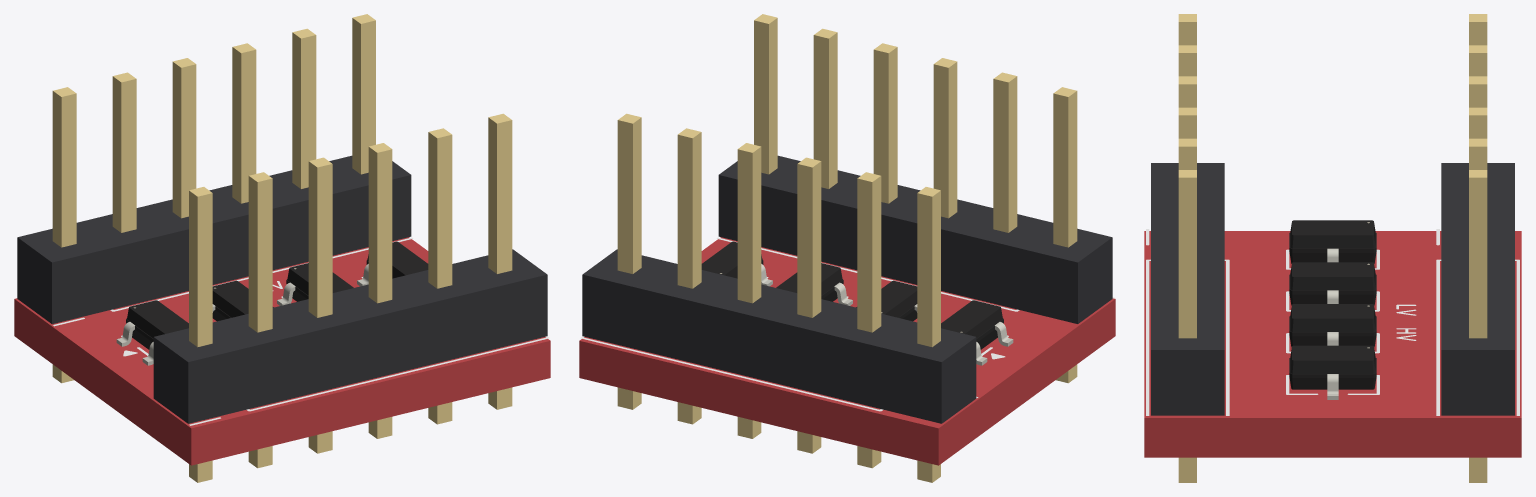
File: logic-level.glb
3 renders of one model, left to right at view 1: azimuth 30°, elevation 25°; view 2: azimuth 150°, elevation 25°; view 3: azimuth 270°, elevation 25°, orthographic. The views are drawn at different scales.
Parts seen in each view (by area): view 1: detail (×14), =>[0:1:1:5], Q1, =>[0:1:1:4], Q2, Q3, Q4; view 2: detail (×14), =>[0:1:1:5], Q1, Q2, =>[0:1:1:4], Q3, Q4; view 3: detail (×14), =>[0:1:1:5], Q4, =>[0:1:1:4], Q1, Q3, Q2.
Part boxes in pixels (<box>): detail (×14): <box>17,14,547,482</box>; =>[0:1:1:5]: <box>14,237,550,465</box>; Q1: <box>116,300,188,365</box>; =>[0:1:1:4]: <box>53,237,549,425</box>; Q2: <box>212,280,273,321</box>; Q3: <box>277,263,353,305</box>; Q4: <box>357,241,428,286</box>; detail (×14): <box>582,14,1112,482</box>; =>[0:1:1:5]: <box>579,237,1115,465</box>; Q1: <box>941,300,1013,365</box>; Q2: <box>856,280,917,321</box>; =>[0:1:1:4]: <box>580,237,1114,411</box>; Q3: <box>776,263,852,305</box>; Q4: <box>701,241,772,286</box>; detail (×14): <box>1151,14,1514,482</box>; =>[0:1:1:5]: <box>1144,231,1521,457</box>; Q4: <box>1289,345,1376,399</box>; =>[0:1:1:4]: <box>1146,229,1519,415</box>; Q1: <box>1289,220,1376,263</box>; Q3: <box>1289,304,1376,347</box>; Q2: <box>1289,262,1376,305</box>.
Size of the model in its own units: 0.0152 by 0.0116 by 0.013.
